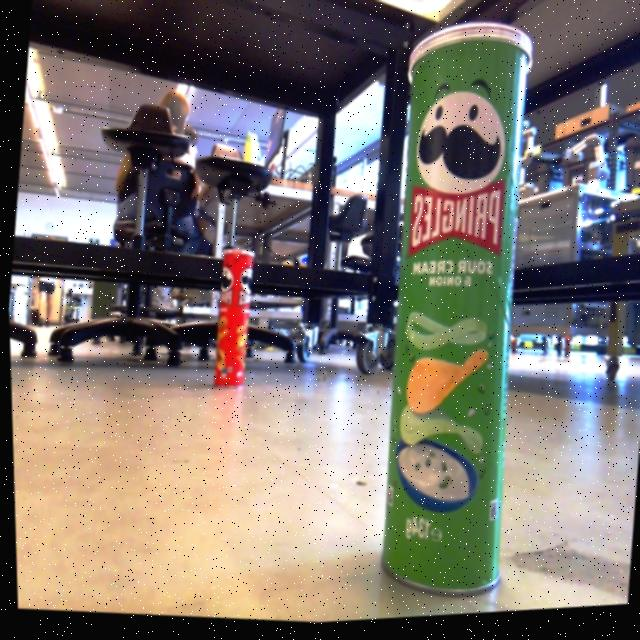greenpringles: (319, 4, 574, 625)
redpringles: (184, 238, 274, 402)
